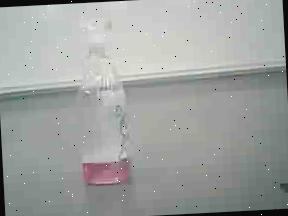hazard: (68, 14, 146, 193)
